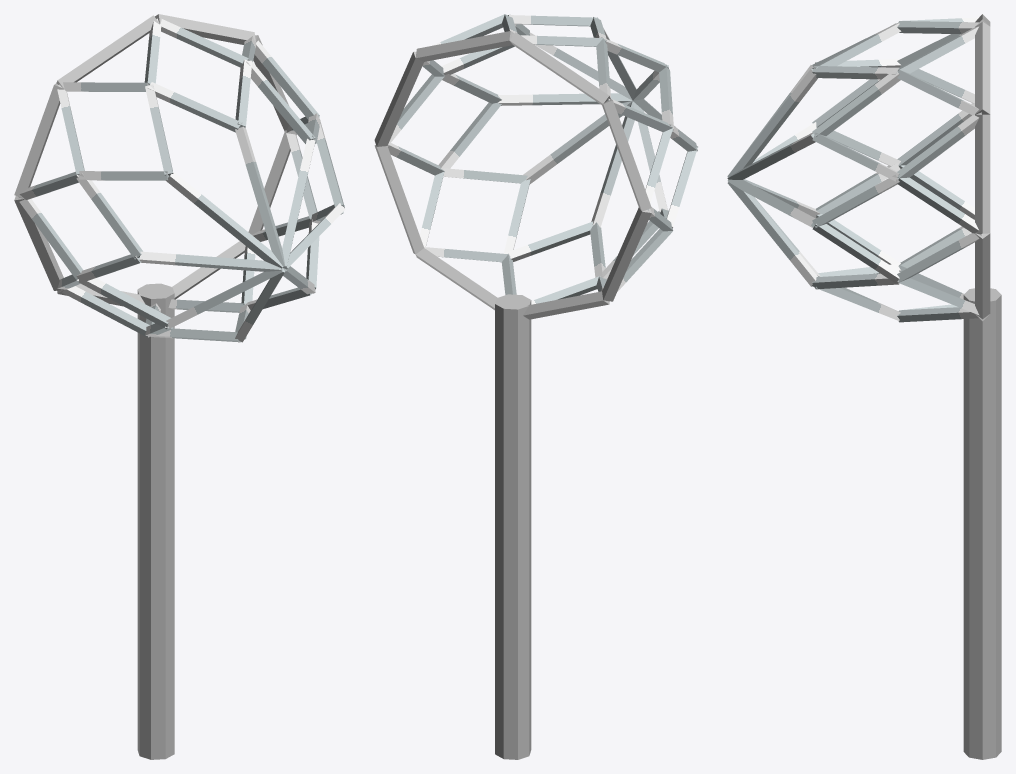
Rendered from naturalist_capture_net.obj.
The picture shows the model from 3 angles, left to right: view 1: azimuth 30°, elevation 25°; view 2: azimuth 150°, elevation 25°; view 3: azimuth 270°, elevation 25°; orthographic projection. The views are drawn at different scales.
Visible parts, largest first — view 1: mesh, handle, rim; view 2: mesh, handle, rim; view 3: mesh, handle, rim.
Boxes of the visible parts, x1,y1,x2,y2 form: mesh: (18,18,345,342); handle: (137,283,174,759); rim: (14,14,296,306); mesh: (387,14,697,304); handle: (495,294,531,759); rim: (374,31,651,319); mesh: (727,17,982,322); handle: (963,288,1001,759); rim: (975,14,990,321).
Size of the model in its own units: 0.5356 by 1.33 by 0.4519.
